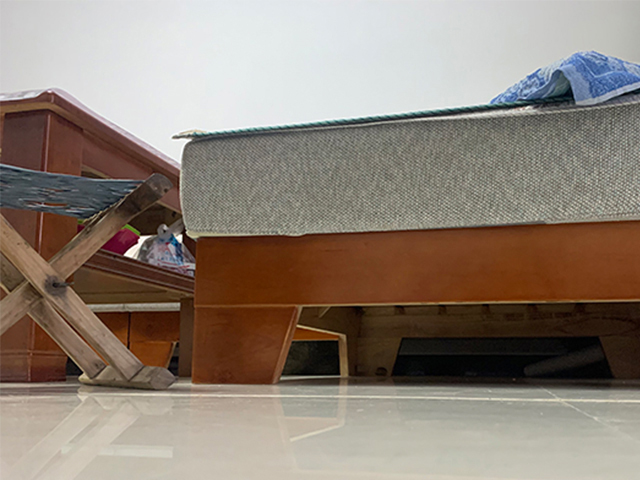sofa: (172, 49, 639, 384)
stool: (1, 161, 175, 390)
